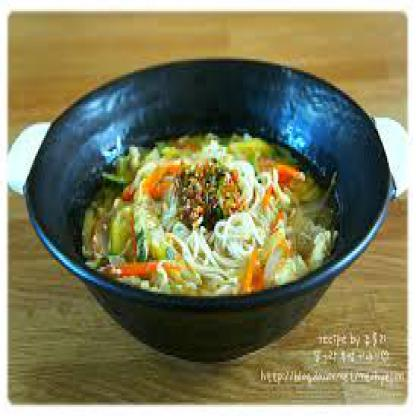banquet noodles: (84, 129, 340, 298)
